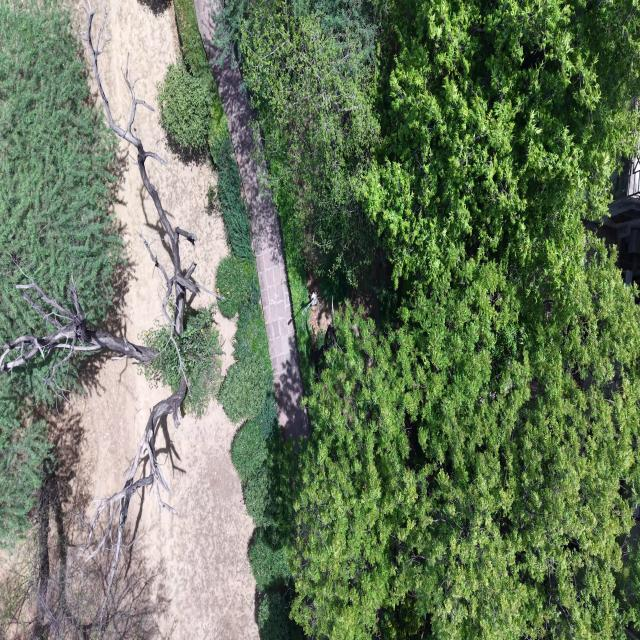DRY_AREA: (195, 0, 310, 440), (130, 401, 258, 639)
VEGETATION_TREE: (161, 0, 639, 639), (222, 0, 639, 639), (294, 2, 639, 638), (0, 2, 219, 638), (294, 261, 638, 637), (83, 5, 219, 635), (361, 0, 638, 296), (176, 0, 301, 639), (217, 0, 380, 386), (207, 93, 299, 637), (219, 0, 379, 295), (159, 5, 272, 422), (216, 140, 300, 639), (0, 3, 122, 343), (0, 3, 122, 340), (216, 228, 300, 639), (0, 500, 168, 639), (175, 0, 252, 259), (209, 108, 272, 422), (231, 390, 302, 639), (141, 306, 222, 417), (174, 0, 228, 150), (0, 388, 50, 546), (219, 293, 272, 422), (210, 128, 254, 261), (158, 63, 212, 153), (231, 419, 271, 527), (174, 0, 217, 93), (217, 254, 257, 318), (249, 530, 290, 592), (258, 592, 298, 639), (209, 88, 229, 167), (207, 185, 218, 214)
